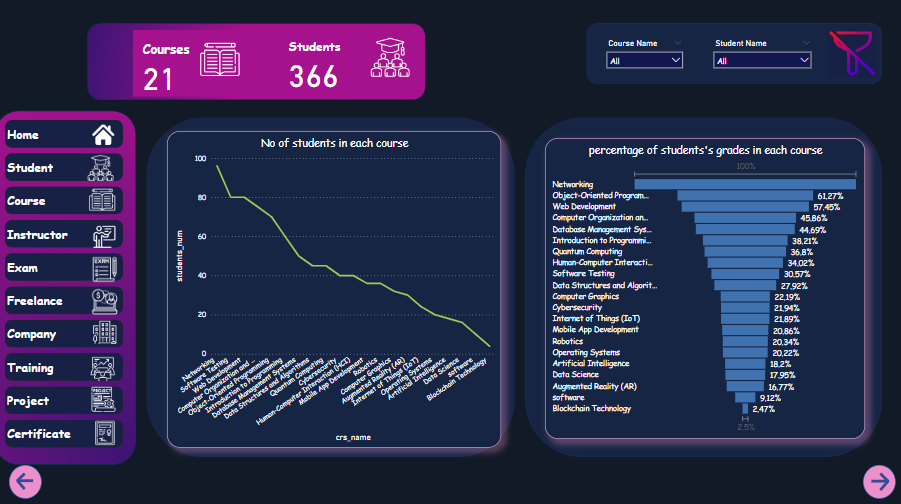

This screenshot's page, from the dashboard's own definition file:
{"tool":"powerbi","page":{"name":"course3","canvas":[1600,900],"ordinal":7},"visuals":[{"type":"lineChart","title":"No of students in each course","fields":{"Category":["Fact_table.crs_name"],"Y":["CountNonNull(Fact_table.student_id_fk)"]},"box":[297.5,236.5,592.1,560.8],"z":0},{"type":"funnel","title":"percentage of students''s grades in each course","fields":{"Category":["Fact_table.crs_name"],"Y":["Sum(Fact_table.grade)"]},"box":[967.3,249.8,566.9,533.3],"z":1000},{"type":"slicer","fields":{"Values":["Fact_table.crs_name"]},"box":[1066.6,69.9,154.7,59.5],"z":2000},{"type":"actionButton","box":[1468.3,58.8,87.4,82.9],"z":3000},{"type":"cardVisual","fields":{"Data":["Count(Dim_Student.st_id_sk)"]},"box":[496.3,54.3,250,121.4],"z":4000},{"type":"slicer","fields":{"Values":["Dim_Student.st_fname"]},"box":[1255.5,69.9,193.4,72.9],"z":5000},{"type":"pageNavigator","box":[10.6,217.9,209.1,581.1],"z":6000},{"type":"image","box":[144.9,219.2,79.7,48.9],"z":7000},{"type":"image","box":[139.5,275.3,79.7,56.2],"z":8000},{"type":"image","box":[152.2,400.3,68.8,48.9],"z":9000},{"type":"image","box":[154,451,65.2,61.6],"z":10000},{"type":"image","box":[139.5,331.5,85.1,56.2],"z":11000},{"type":"image","box":[152.2,512.6,70.6,56.2],"z":12000},{"type":"image","box":[155.8,568.8,63.4,50.7],"z":13000},{"type":"image","box":[148.5,632.2,70.6,54.3],"z":14000},{"type":"image","box":[137.7,746.3,99.6,52.5],"z":15000},{"type":"image","box":[144.9,686.5,79.7,54.3],"z":16000},{"type":"group","id":"g1","title":"Group 1","box":[1530.6,829.6,58,59.8],"z":17000},{"type":"cardVisual","fields":{"Data":["Count(Fact_table.crs_id_bk)"]},"box":[237.3,58,206.5,117.7],"z":18000},{"type":"group","id":"g2","title":"Group 2","box":[18.1,829.6,61.6,59.8],"z":19000},{"type":"shape","box":[1530.6,829.6,58,59.8],"z":19000,"group":"g1"},{"type":"actionButton","box":[1539.7,838.7,48.9,41.7],"z":20000,"group":"g1"},{"type":"shape","box":[18.1,829.6,58,59.8],"z":20500,"group":"g2"},{"type":"actionButton","box":[27.2,838.7,52.5,39.8],"z":21000,"group":"g2"}]}

Visuals, with their boxes in screenshot pixels (x1, y1, x2, y2), scaled from the page's 1600x900 canvas onto the 901x504 screenshot:
"No of students in each course" lineChart: <bbox>168, 132, 501, 446</bbox>
"percentage of students''s grades in each course" funnel: <bbox>545, 140, 864, 439</bbox>
slicer - Fact_table.crs_name: <bbox>601, 39, 688, 72</bbox>
actionButton: <bbox>827, 33, 876, 79</bbox>
cardVisual - Count(Dim_Student.st_id_sk): <bbox>279, 30, 420, 98</bbox>
slicer - Dim_Student.st_fname: <bbox>707, 39, 816, 80</bbox>
pageNavigator: <bbox>6, 122, 124, 447</bbox>
image: <bbox>82, 123, 126, 150</bbox>
image: <bbox>79, 154, 123, 186</bbox>
image: <bbox>86, 224, 124, 252</bbox>
image: <bbox>87, 253, 123, 287</bbox>
image: <bbox>79, 186, 126, 217</bbox>
image: <bbox>86, 287, 125, 319</bbox>
image: <bbox>88, 319, 123, 347</bbox>
image: <bbox>84, 354, 123, 384</bbox>
image: <bbox>78, 418, 134, 447</bbox>
image: <bbox>82, 384, 126, 415</bbox>
"Group 1" group: <bbox>862, 465, 895, 498</bbox>
cardVisual - Count(Fact_table.crs_id_bk): <bbox>134, 32, 250, 98</bbox>
"Group 2" group: <bbox>10, 465, 45, 498</bbox>
shape: <bbox>862, 465, 895, 498</bbox>
actionButton: <bbox>867, 470, 895, 493</bbox>
shape: <bbox>10, 465, 43, 498</bbox>
actionButton: <bbox>15, 470, 45, 492</bbox>
